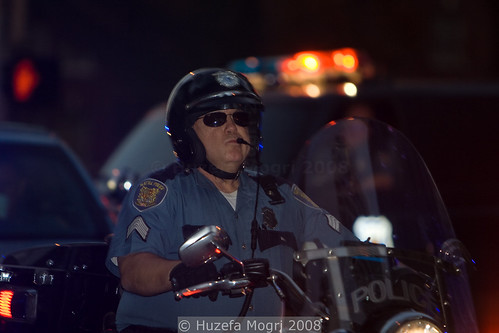policeman: (109, 64, 340, 332)
